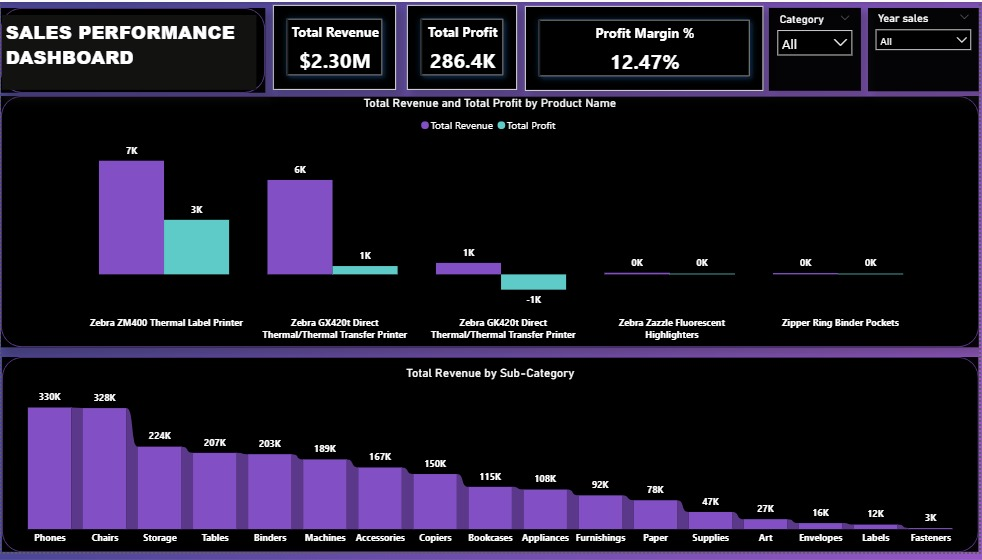

Layout of this report page (visuals, bound fields, positions):
{"tool":"powerbi","page":{"name":"Sales","canvas":[1280,720],"ordinal":0},"visuals":[{"type":"shape","box":[0,123.1,1280.3,328.6],"z":0},{"type":"shape","box":[1.4,464.9,1278.4,255.4],"z":1000},{"type":"cardVisual","fields":{"Data":["Order.Total Revenue"]},"box":[355.7,4.3,161.3,110.9],"z":2000},{"type":"cardVisual","fields":{"Data":["Order.Total Profit"]},"box":[531.4,4.3,144,110.9],"z":3000},{"type":"columnChart","fields":{"Y":["Order.Total Revenue"],"Category":["Order.Sub-Category"]},"box":[1.4,476.2,1278.6,243.6],"z":4000},{"type":"slicer","fields":{"Values":["Order.Year sales"]},"box":[1134.7,7.2,145.4,109.4],"z":5000},{"type":"shape","box":[0,7.2,345.6,110.9],"z":6000},{"type":"textbox","box":[1.4,17.3,332.6,97.9],"z":7000},{"type":"clusteredColumnChart","fields":{"Category":["Order.Product Name"],"Y":["Order.Total Revenue","Order.Total Profit"]},"box":[0,123.1,1280.3,328.6],"z":8000},{"type":"cardVisual","fields":{"Data":["Order.Profit Margin %"]},"box":[685.4,5.8,312.5,110.9],"z":9000},{"type":"slicer","fields":{"Values":["Order.Category"]},"box":[1005.1,7.2,119.5,108],"z":10000}]}

Visuals, with their boxes in screenshot pixels (x1, y1, x2, y2), scaled from the page's 1280x720 canvas onto the 982x560 screenshot:
shape: [0, 96, 981, 351]
shape: [1, 362, 981, 559]
cardVisual - Order.Total Revenue: [273, 3, 397, 90]
cardVisual - Order.Total Profit: [408, 3, 518, 90]
columnChart - Order.Total Revenue x Order.Sub-Category: [1, 370, 981, 559]
slicer - Order.Year sales: [871, 6, 981, 91]
shape: [0, 6, 265, 92]
textbox: [1, 13, 256, 90]
clusteredColumnChart - Order.Product Name x Order.Total Revenue: [0, 96, 981, 351]
cardVisual - Order.Profit Margin %: [526, 5, 766, 91]
slicer - Order.Category: [771, 6, 863, 90]
